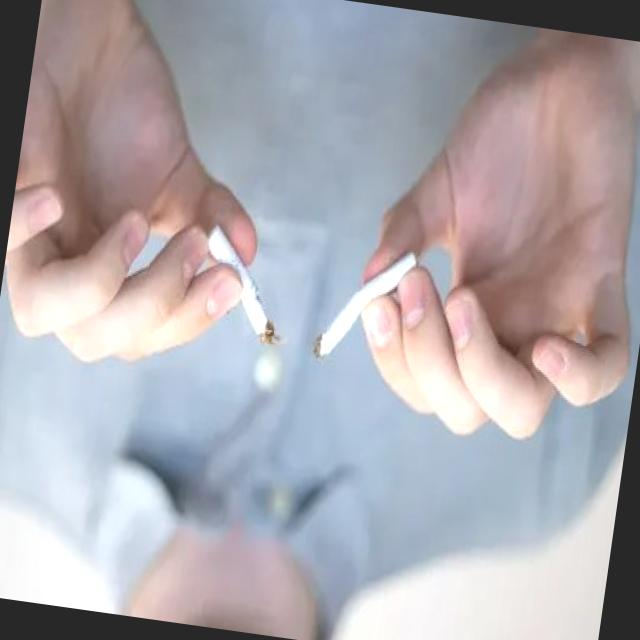cigarette: (300, 224, 426, 382), (189, 218, 296, 356)
